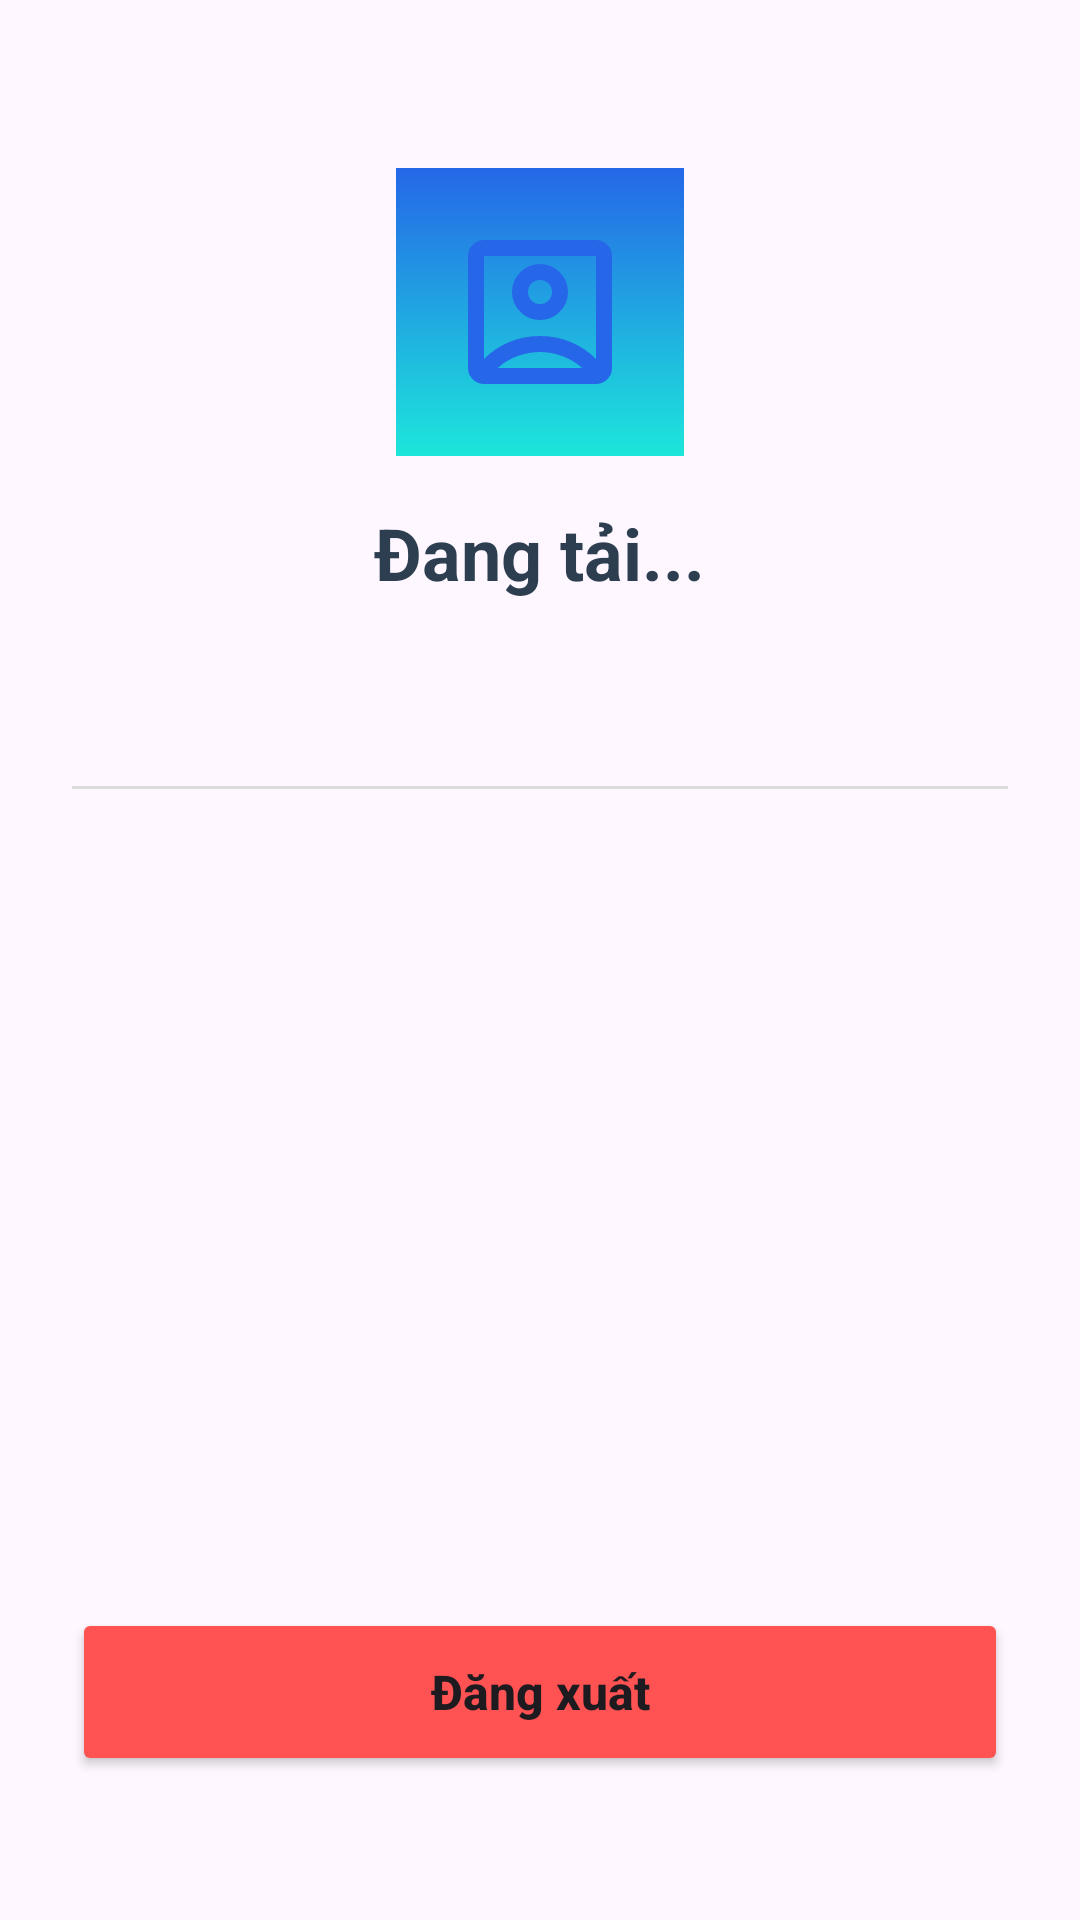

Named icons in this screenshot (1080px×1920px) and their bounding boxes, detection(x1, y1, x2, y2):
person: detection(396, 168, 684, 456)
